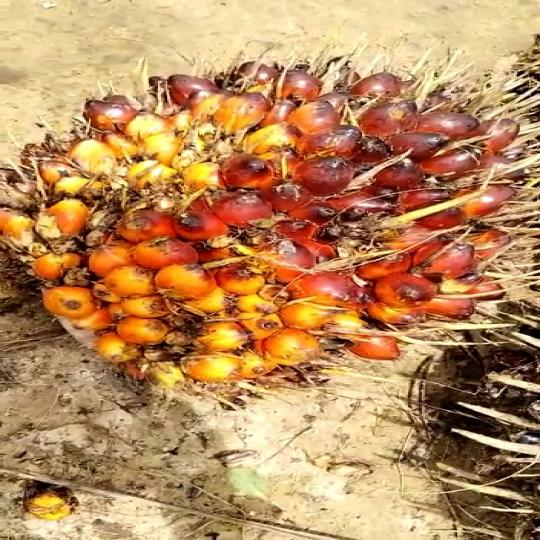masak: (0, 49, 540, 402)
